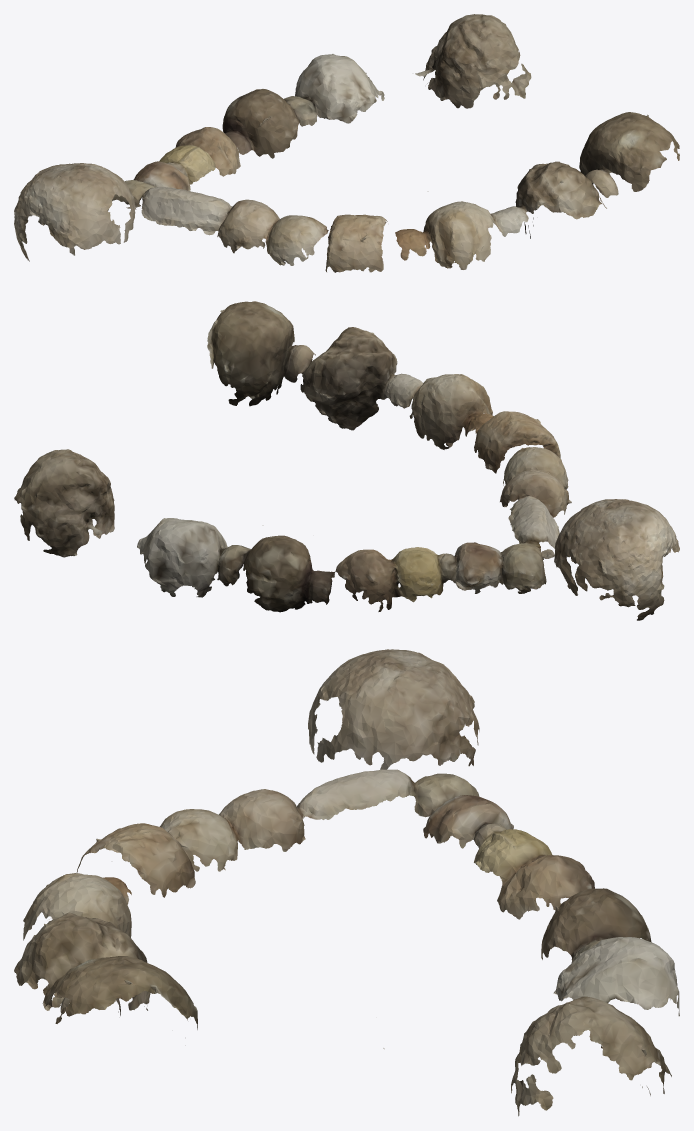
Rendered from bracelet.glb.
3 views of the same model, one above another, from view 1: azimuth 30°, elevation 25°; view 2: azimuth 150°, elevation 25°; view 3: azimuth 270°, elevation 25° (orthographic). The views are drawn at different scales.
Visible parts, largest first — view 1: morecompressedply; view 2: morecompressedply; view 3: morecompressedply.
Part boxes in pixels (x1,y1,x2,y2): morecompressedply: (14, 14, 679, 272); morecompressedply: (14, 301, 679, 620); morecompressedply: (14, 649, 679, 1116).
Bounding box in the file's own units: 1.86 × 0.366 × 1.37.
